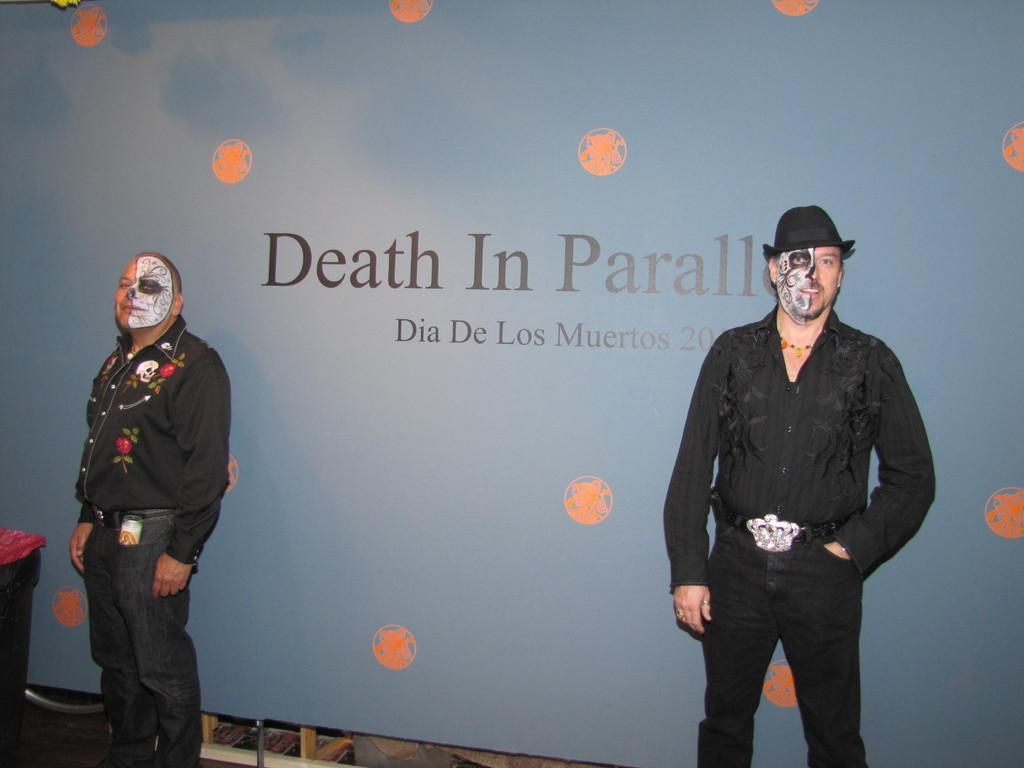Hat: (760, 201, 856, 254)
